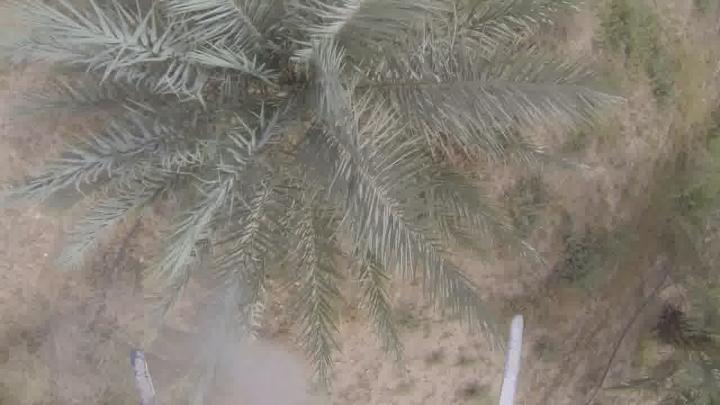Date-Palm-Crown: (114, 0, 428, 258)
